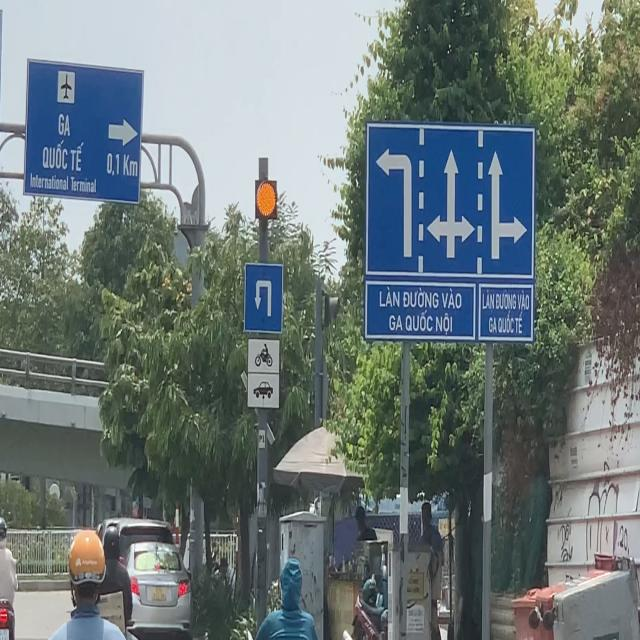Chi dan: (244, 261, 285, 330)
